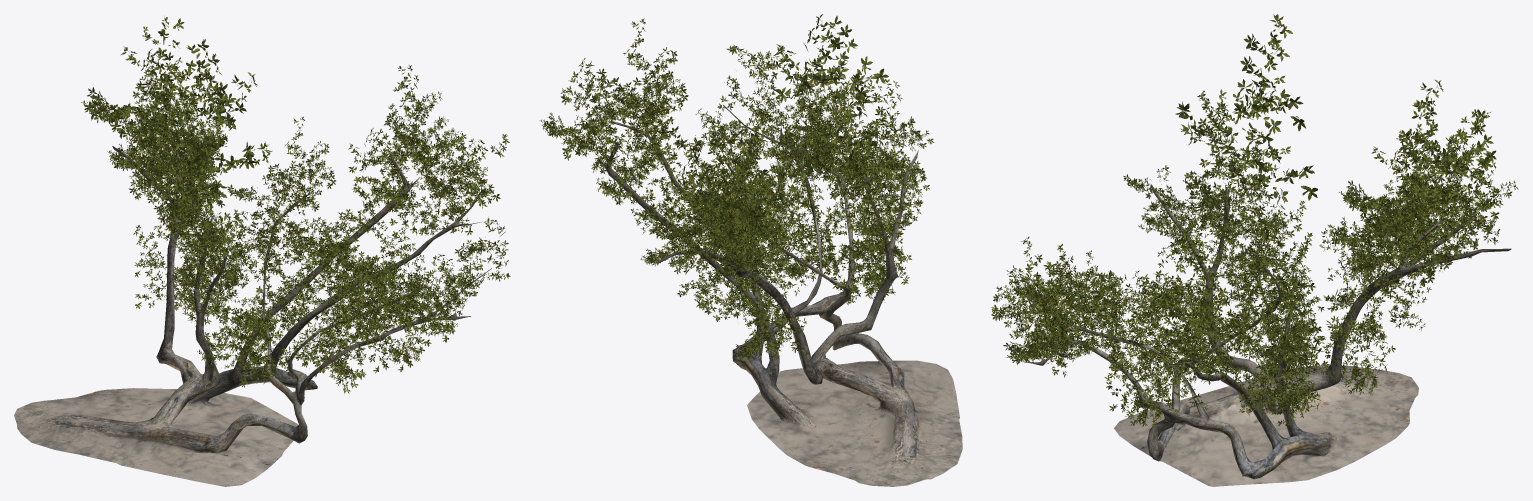
File: island_tree_03.glb
The picture shows the model from 3 angles, left to right: view 1: azimuth 30°, elevation 25°; view 2: azimuth 150°, elevation 25°; view 3: azimuth 270°, elevation 25°; orthographic projection. The views are drawn at different scales.
Visible parts, largest first — view 1: island_tree_03_LOD0; view 2: island_tree_03_LOD0; view 3: island_tree_03_LOD0.
Boxes of the visible parts, left/top/right/bottom form: island_tree_03_LOD0: left=14, top=17, right=510, bottom=486; island_tree_03_LOD0: left=539, top=14, right=962, bottom=486; island_tree_03_LOD0: left=991, top=14, right=1518, bottom=486.
Bounding box in the file's own units: 2.97 × 2.61 × 2.91.
Materials: 3 (3 with a texture image).
